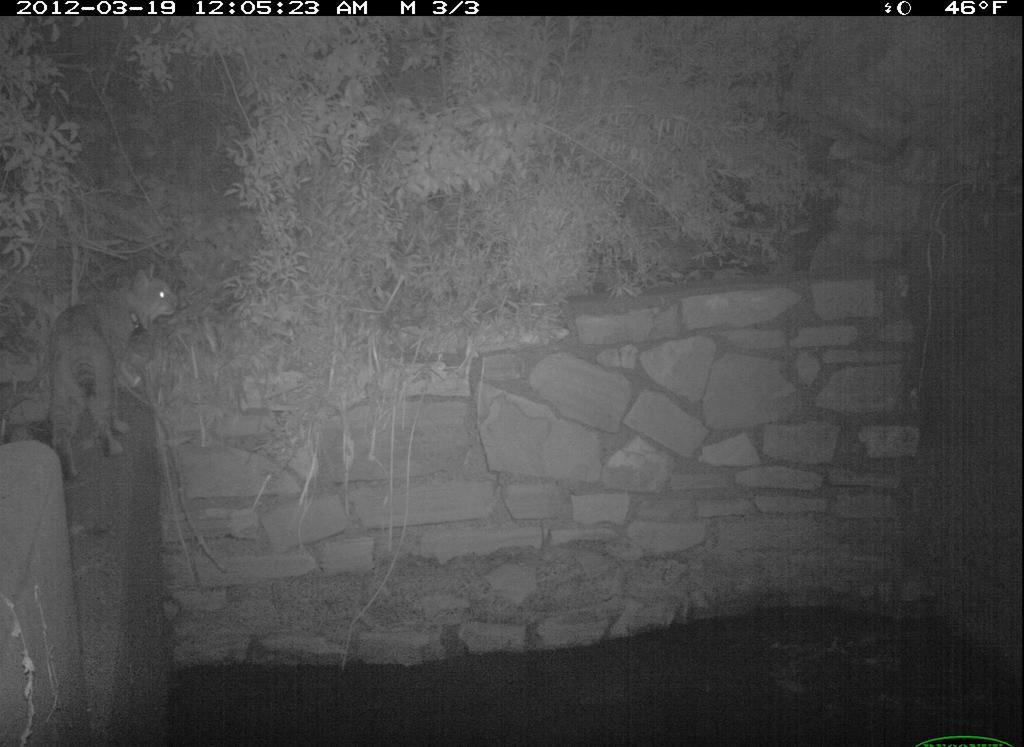bobcat: (43, 264, 181, 484)
